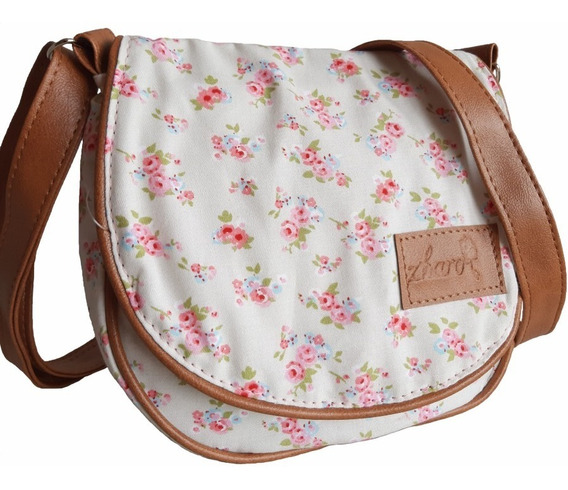cartera: (4, 27, 567, 464)
